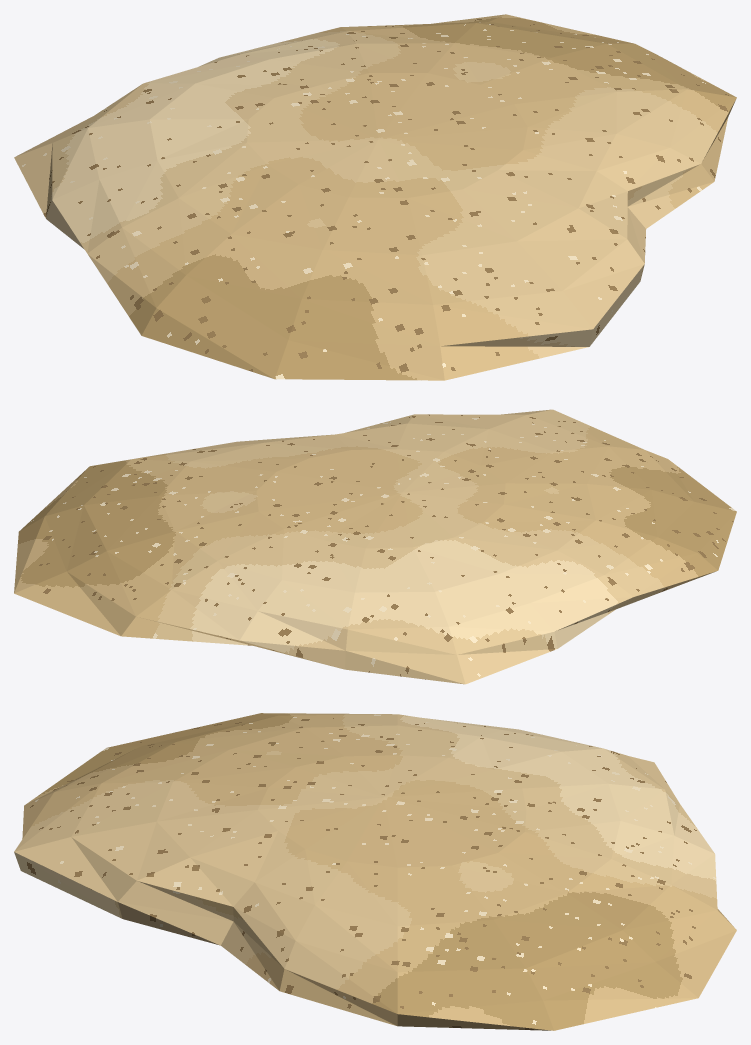
File: island-v2-1.glb
The picture shows the model from 3 angles, top to bottom: view 1: azimuth 30°, elevation 25°; view 2: azimuth 150°, elevation 25°; view 3: azimuth 270°, elevation 25°; orthographic projection. The views are drawn at different scales.
Parts seen in each view (by area): view 1: Island; view 2: Island; view 3: Island.
Part boxes in pixels (x1,y1,x2,y2): Island: (14,14,736,380); Island: (14,409,736,684); Island: (14,713,736,1030).
Bounding box in the file's own units: 5.43 × 0.5378 × 5.38.
Materials: 1 (1 with a texture image).
